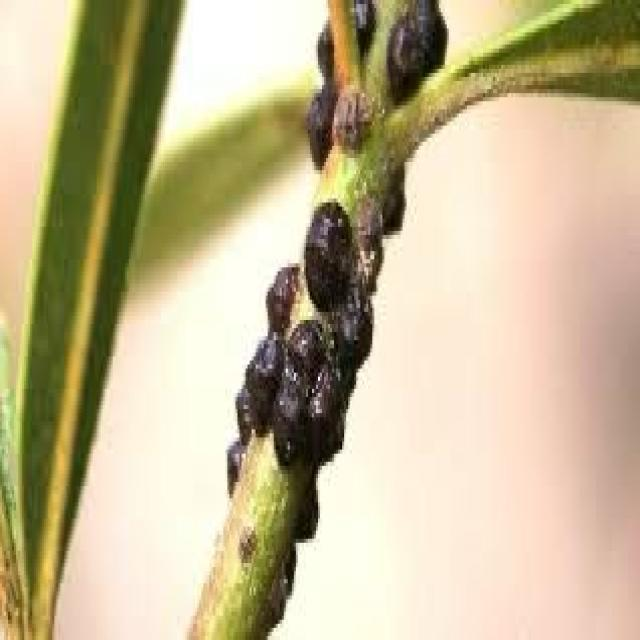BlackScale: (274, 284, 374, 470), (225, 262, 298, 508), (304, 198, 354, 312), (391, 0, 446, 101), (306, 20, 336, 166)
